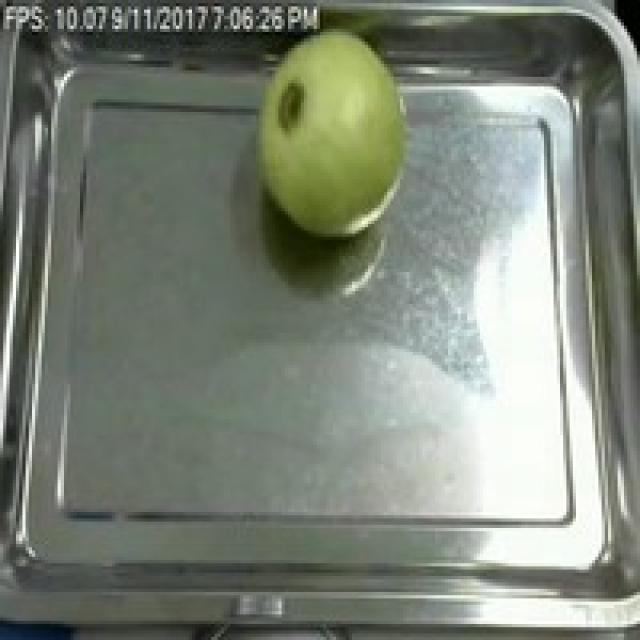Fruit: (240, 12, 419, 250)
